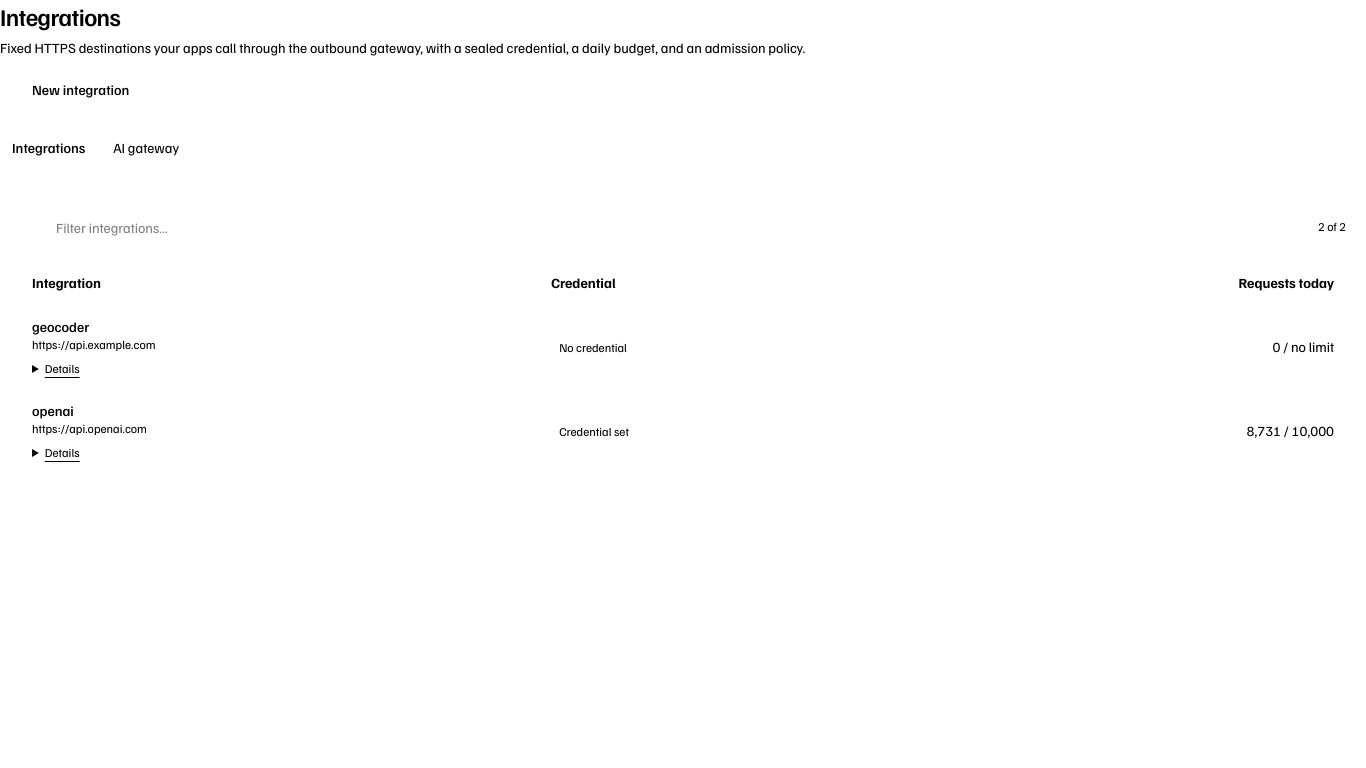
Test case: Integrations page › sends a credential once and never renders or caches it
Click the text "geocoder".
click(61, 326)  # box [32, 318, 89, 335]
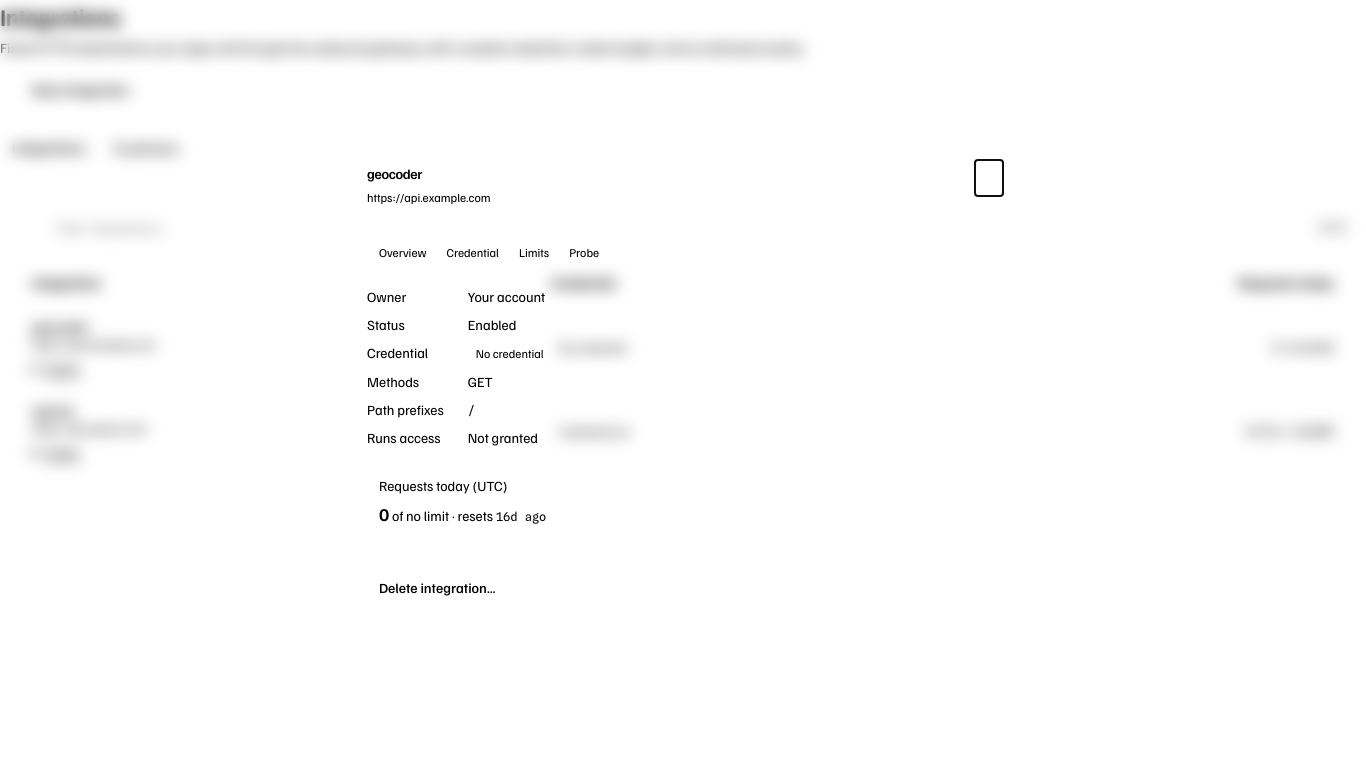
Click the button "Credential".
click(473, 253)  # box [436, 241, 509, 265]
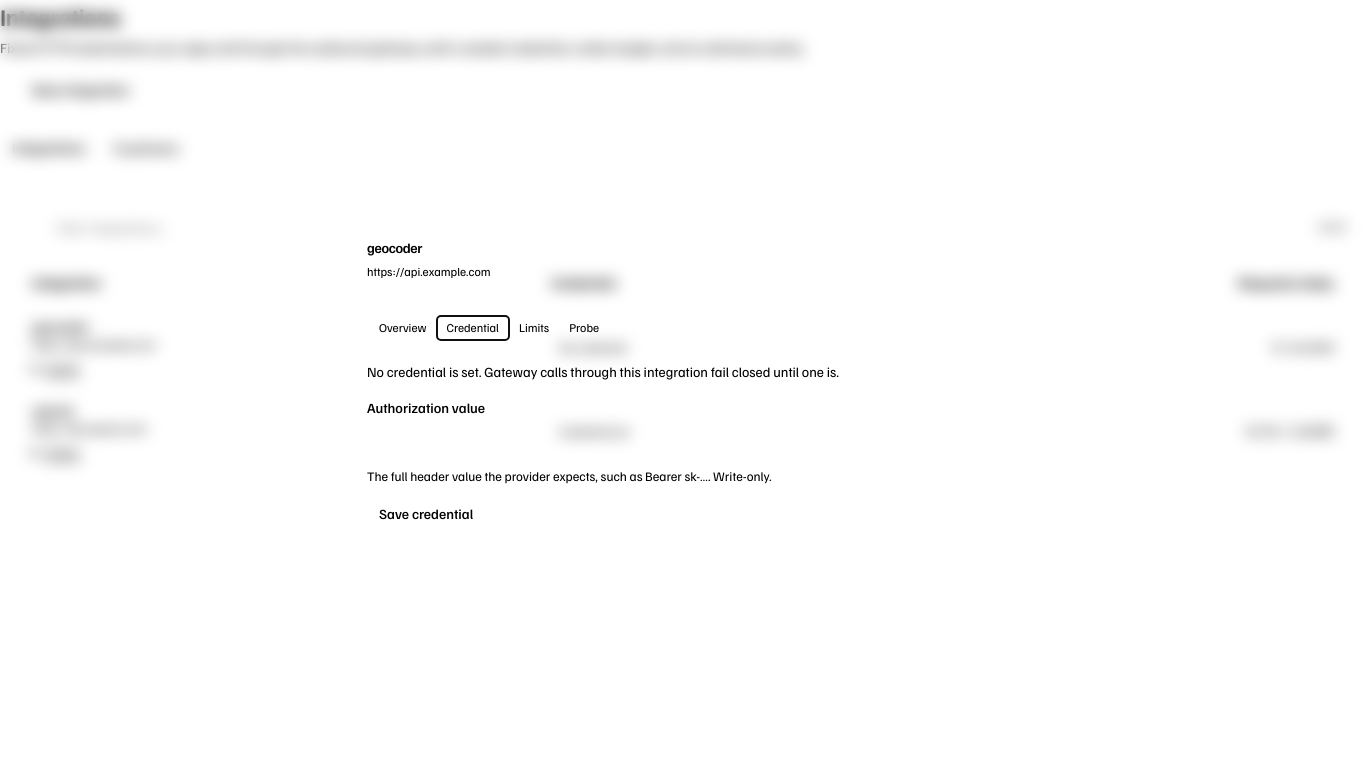
Type "Bearer sk-live-do-not-echo-0123456789" into the password field labelled "Authorization value".
click(683, 442); type("Bearer sk-live-do-not-echo-0123456789")  # box [367, 424, 999, 460]
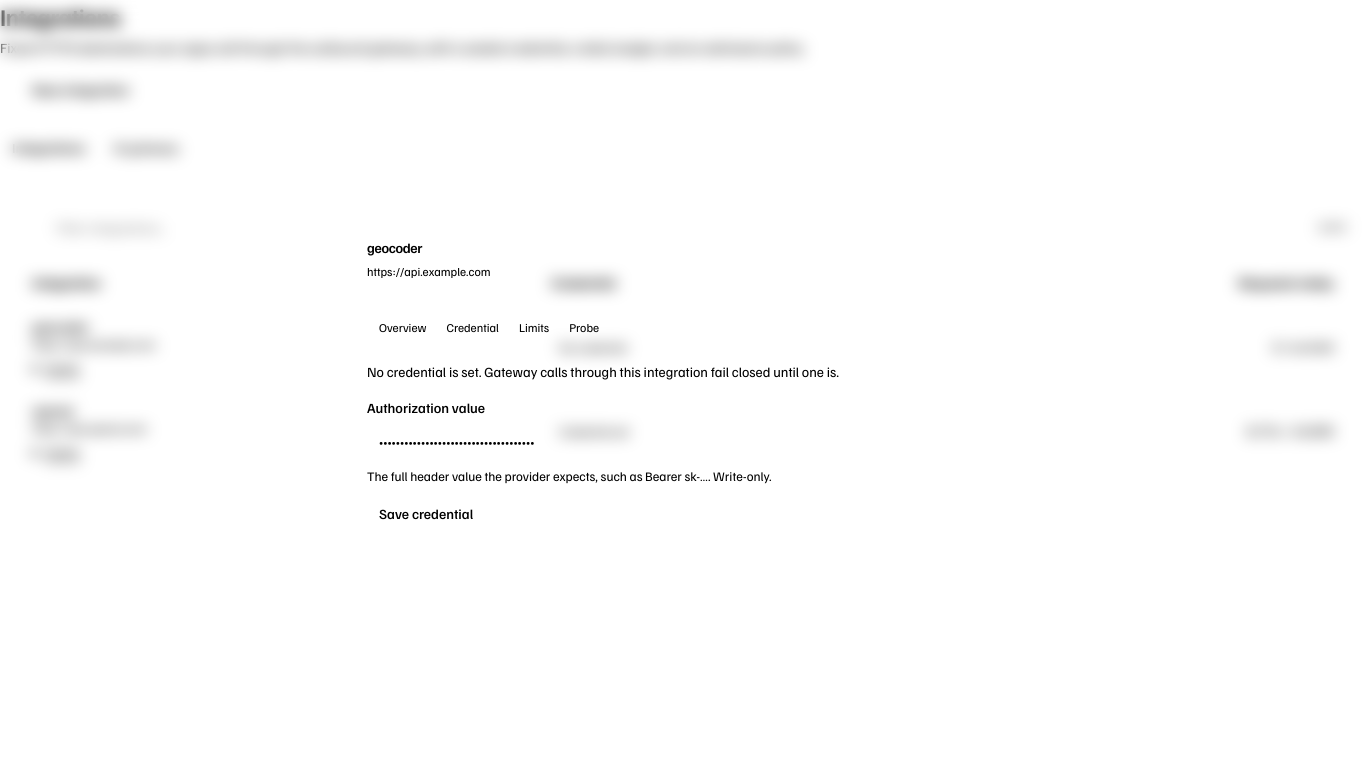
Click the button "Save credential".
click(426, 514)  # box [367, 498, 485, 530]
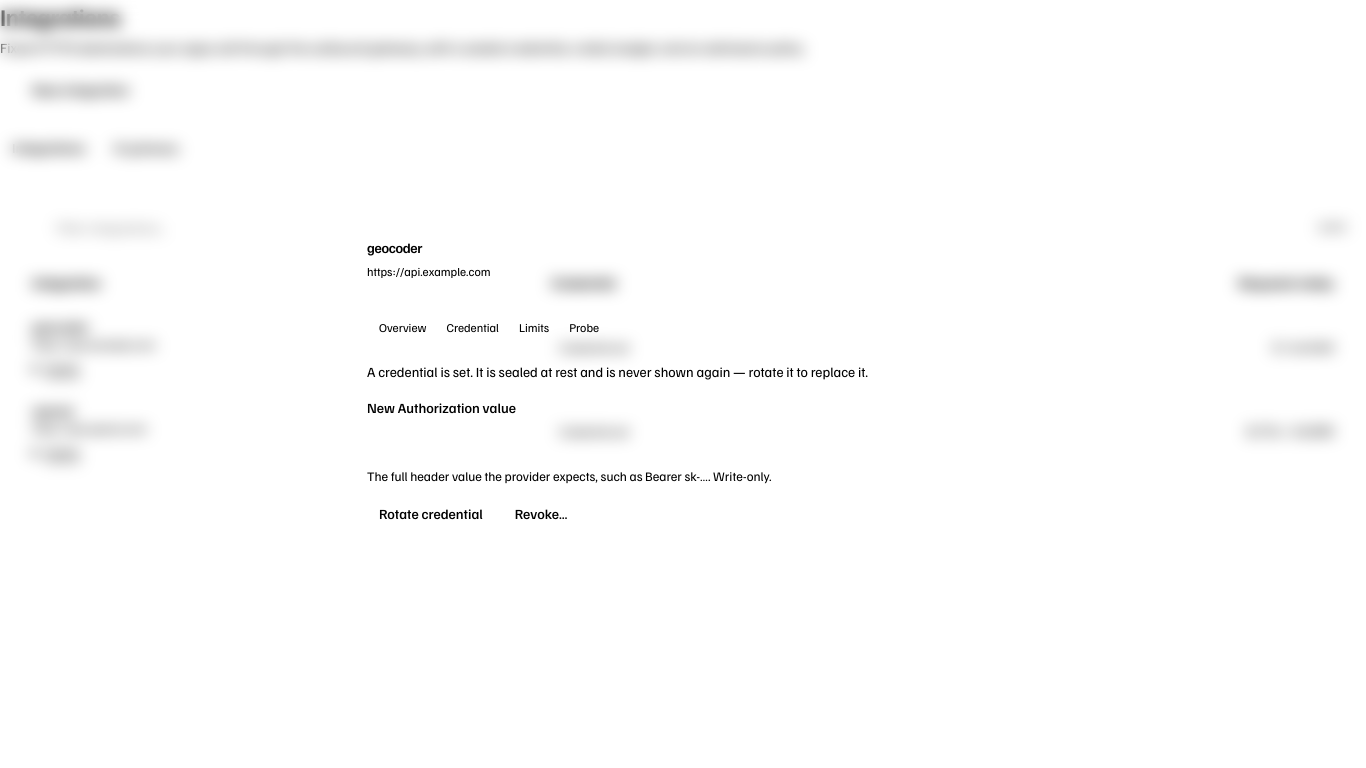
Now the text "A credential is set" is shown, box [367, 363, 868, 380]
Now the password field labelled "New Authorization value" is empty, box [367, 424, 999, 460]
